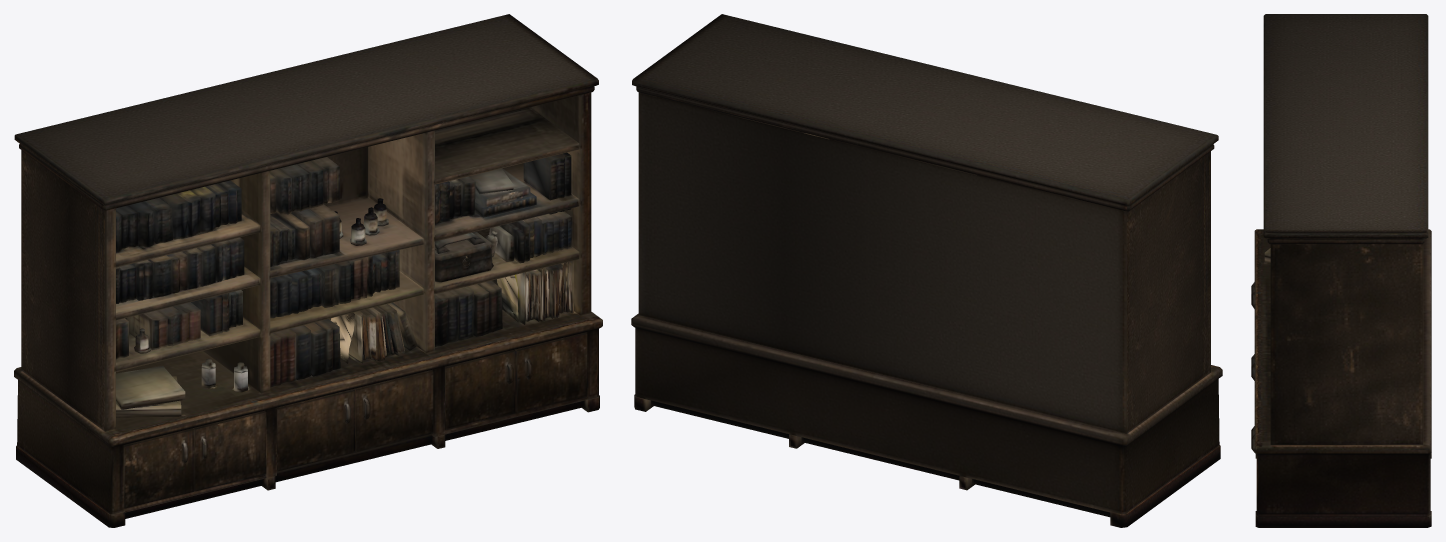
File: Bookshelf2.fbx
3 renders of one model, left to right at view 1: azimuth 30°, elevation 25°; view 2: azimuth 150°, elevation 25°; view 3: azimuth 270°, elevation 25°, orthographic. The views are drawn at different scales.
Parts seen in each view (by area): view 1: tripo_node_44072b21; view 2: tripo_node_44072b21; view 3: tripo_node_44072b21.
Part boxes in pixels (x1,y1,x2,y2): tripo_node_44072b21: (14, 14, 602, 527); tripo_node_44072b21: (631, 14, 1222, 527); tripo_node_44072b21: (1251, 14, 1431, 527).
Size of the model in its own units: 0.998 by 0.627 by 0.3457.
